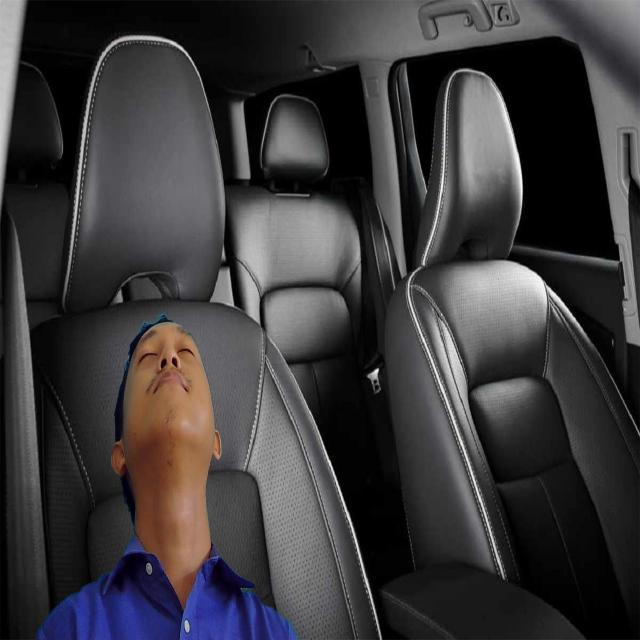no-seatbelt: (124, 302, 217, 492)
